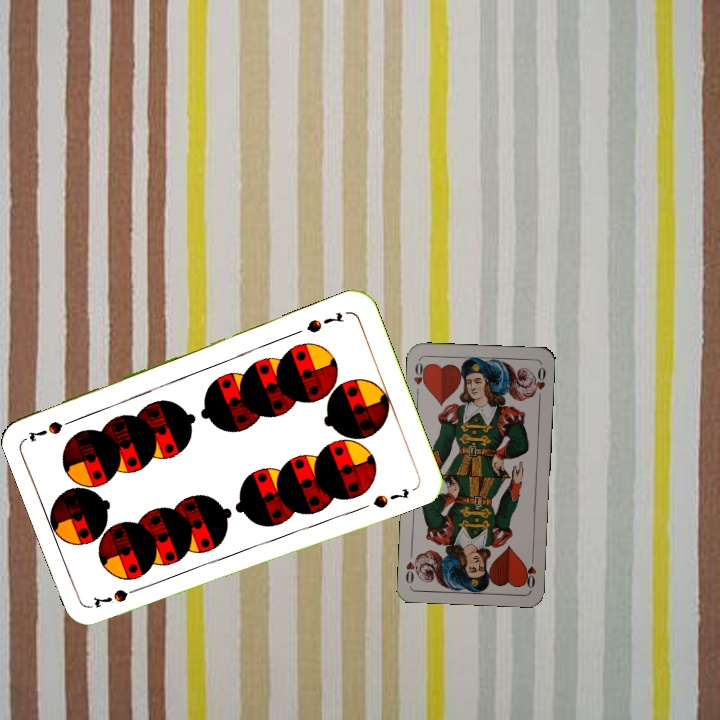HO: (409, 358, 429, 397), (521, 550, 539, 591)
S7: (89, 582, 147, 611), (302, 308, 347, 336)
